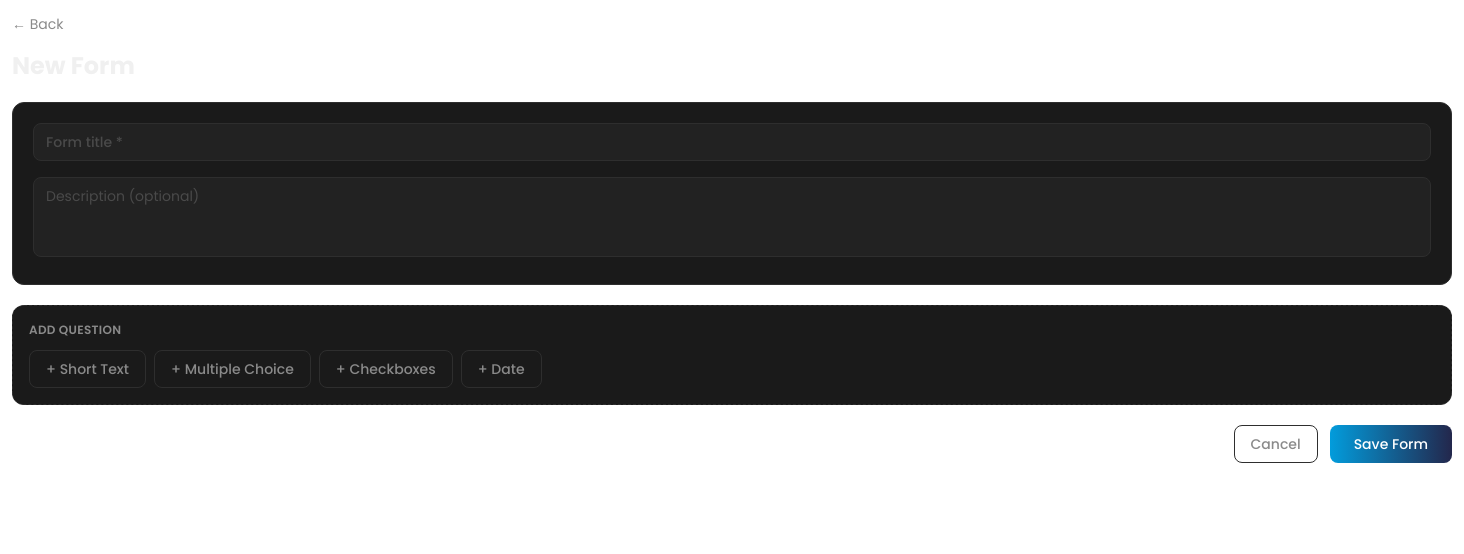
FormBuilderPage › validation › shows error when no questions are added on save
Type "My Form" into the field with placeholder "Form title *" at (732, 142), box [33, 123, 1431, 161]
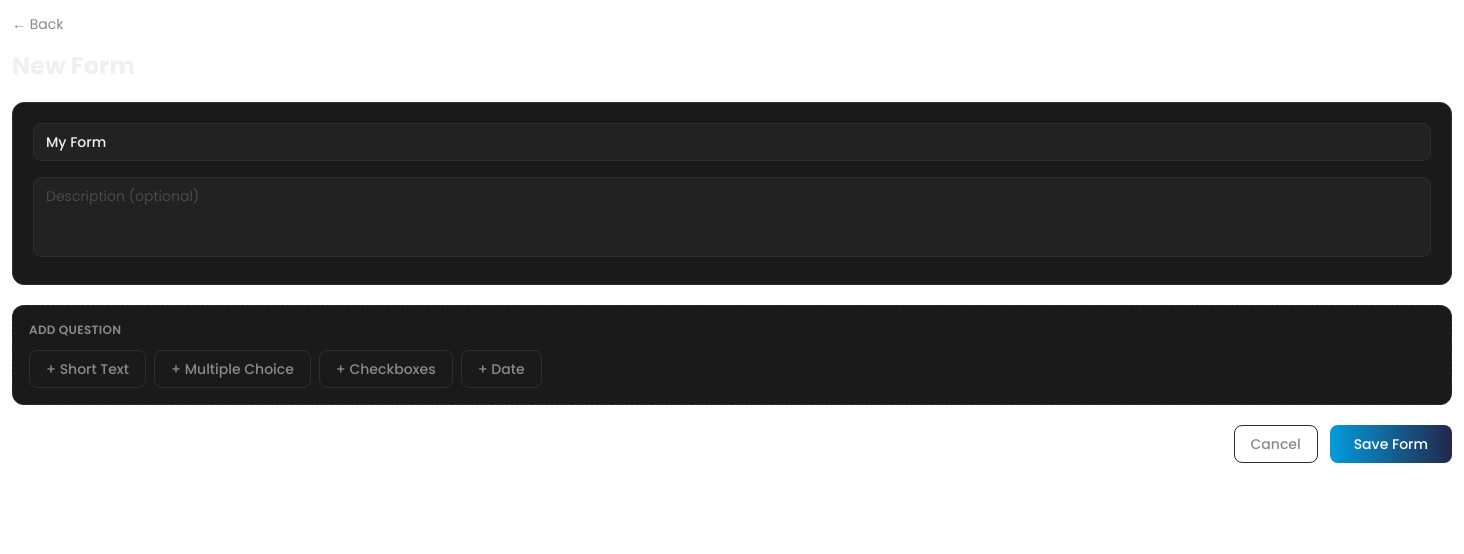
Click the button "Save Form" at (1391, 444), box [1330, 425, 1452, 463]
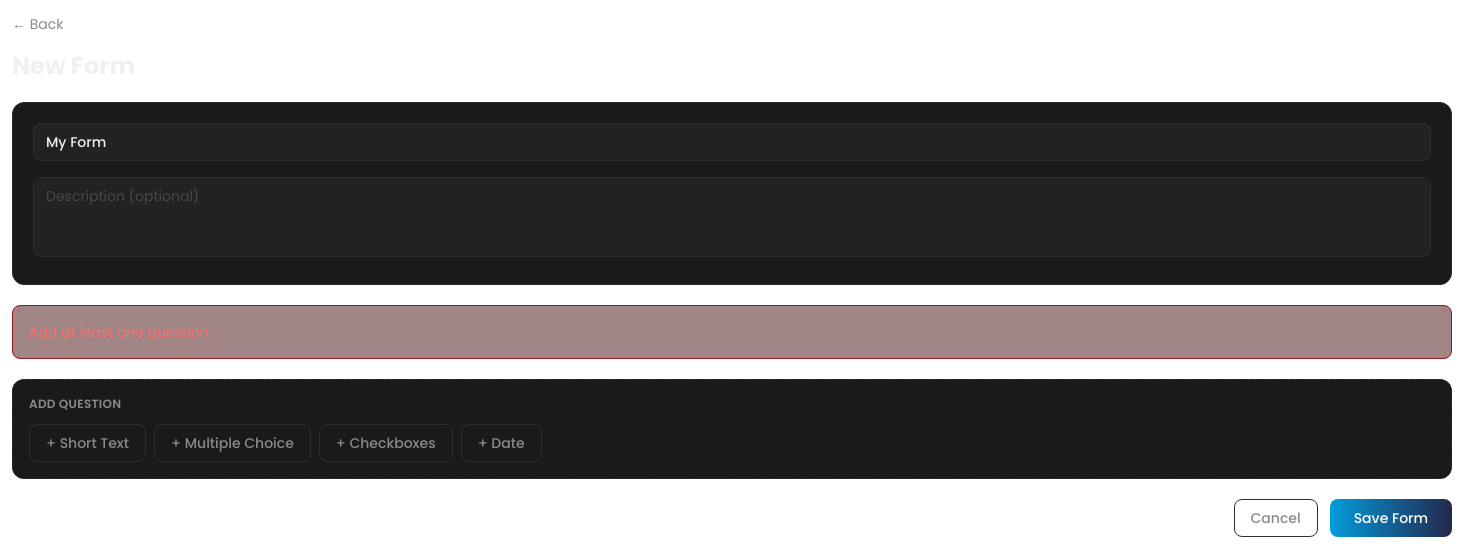
Result: the text "Add at least one question." is shown at [12, 305, 1452, 359]
